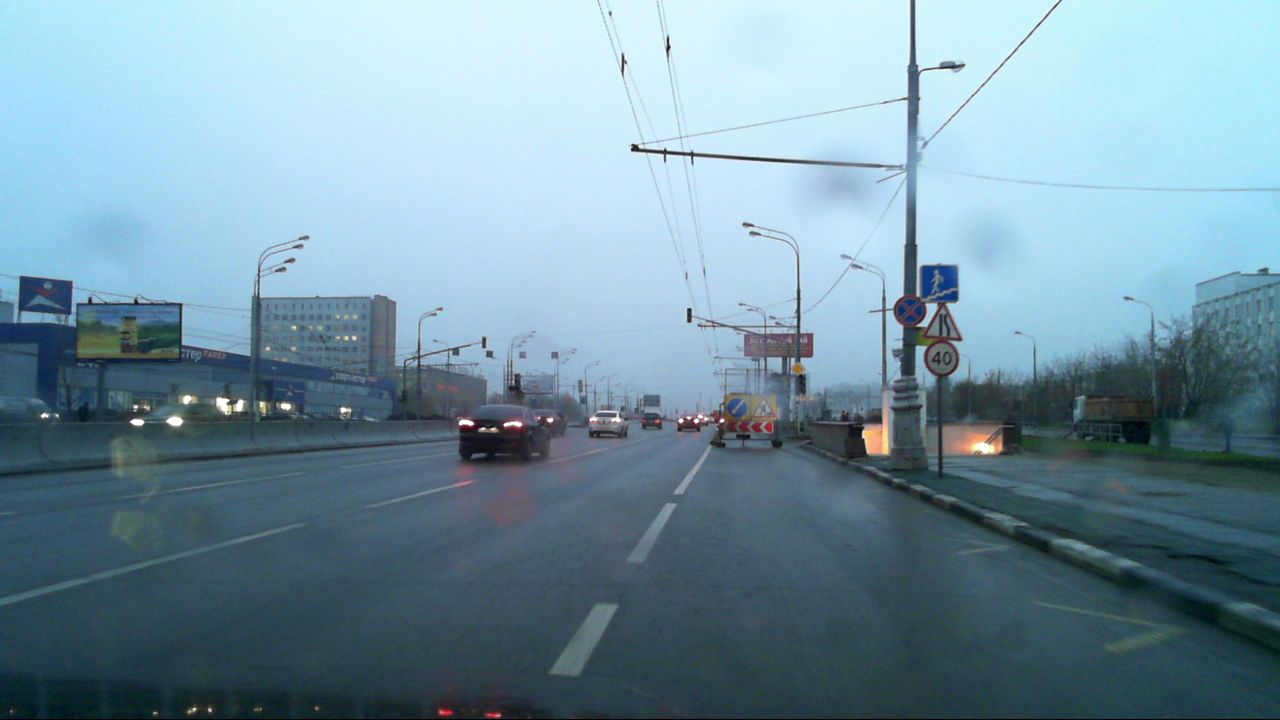No Parking: (895, 295, 925, 325)
speed_warning_40: (922, 343, 958, 376)
